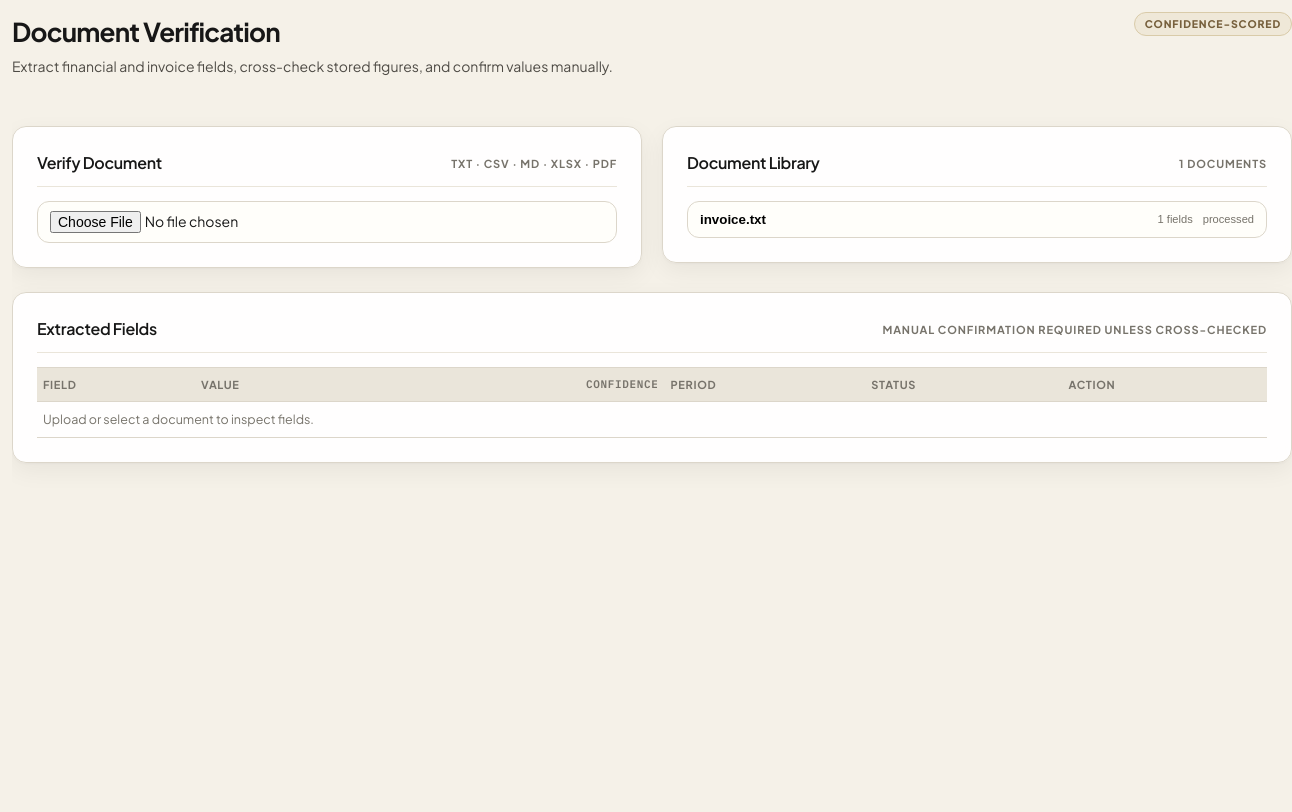
Scenario: Phase 4 trust pages › renders document fields and confirms an extracted value
Later steps or results of the test are not shown.
Expected: the element with test id "verification-page" is shown, [12, 12, 1291, 463]
Click the button "invoice.txt 1 fields processed": {"x": 733, "y": 219} [687, 201, 1267, 238]
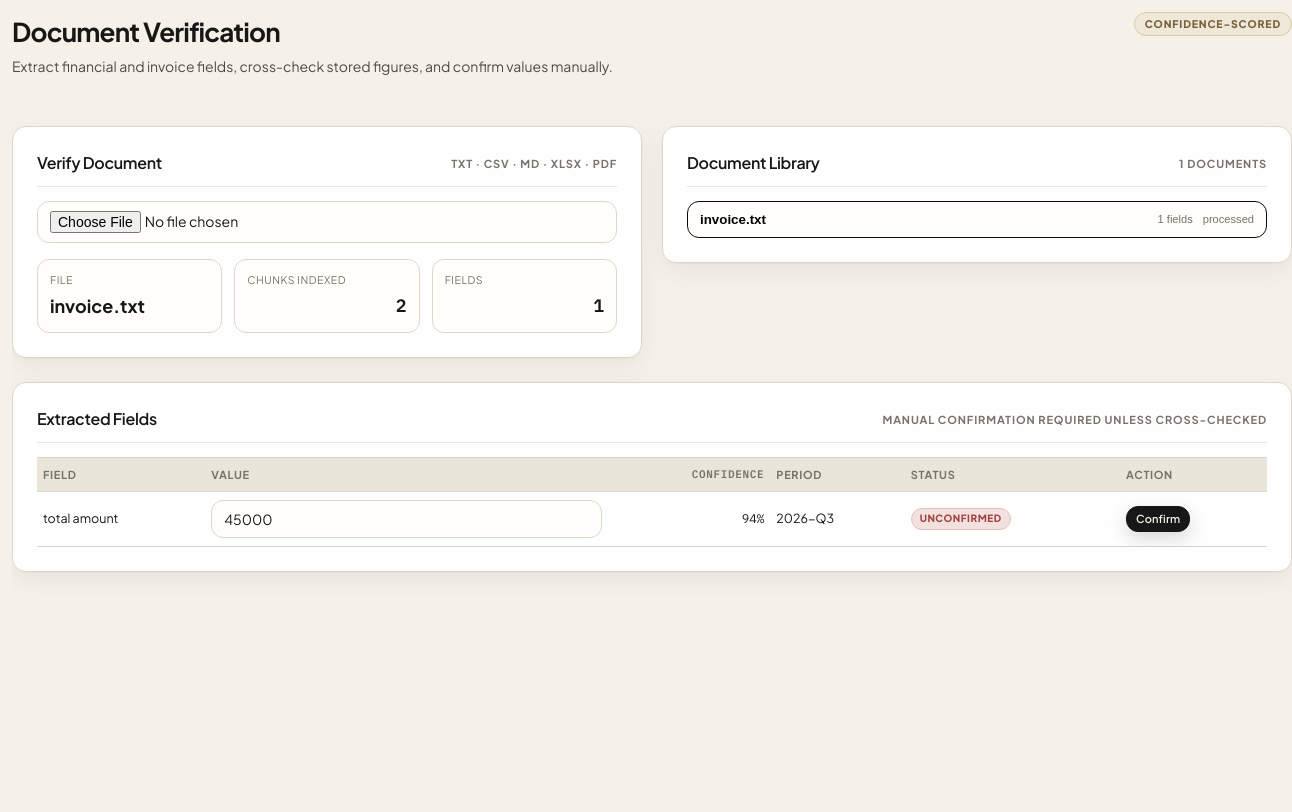
Expected: the field named "total amount value" holds "45000", [211, 500, 602, 538]
